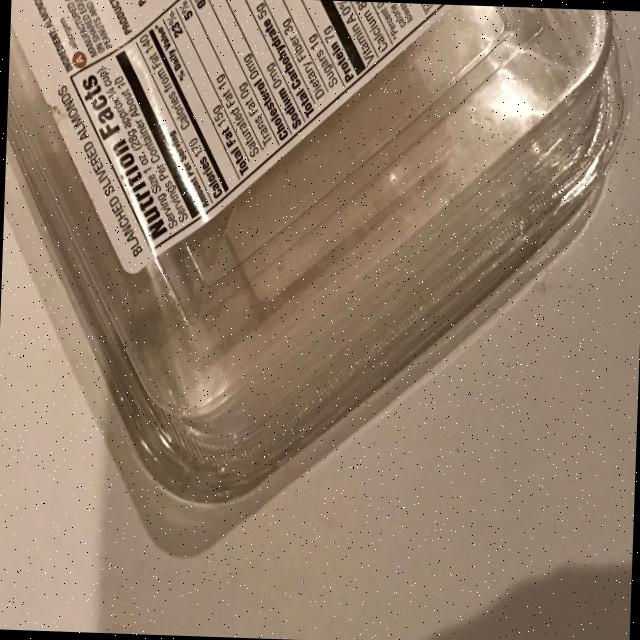plastic: (0, 0, 635, 567)
